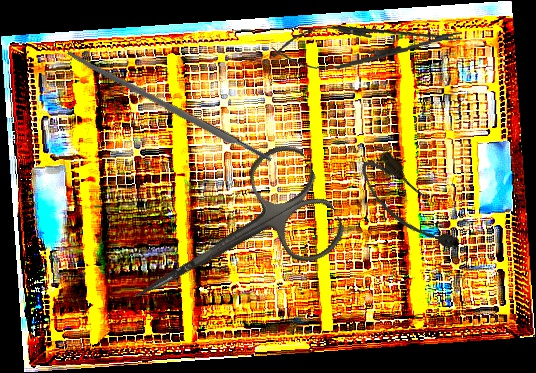Cannula: (351, 145, 469, 268)
Iris Scissors: (105, 136, 353, 347)
Needle Holder: (270, 13, 465, 77)
Scalpel Handle: (65, 48, 273, 166)
